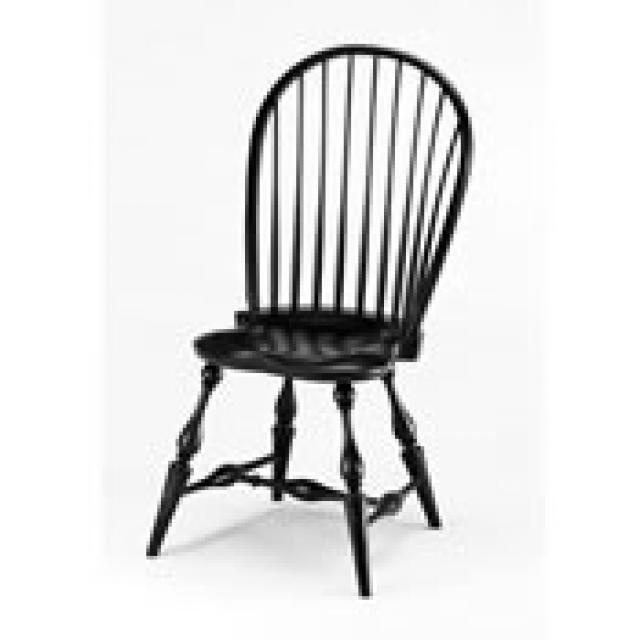chair: (143, 42, 474, 599)
